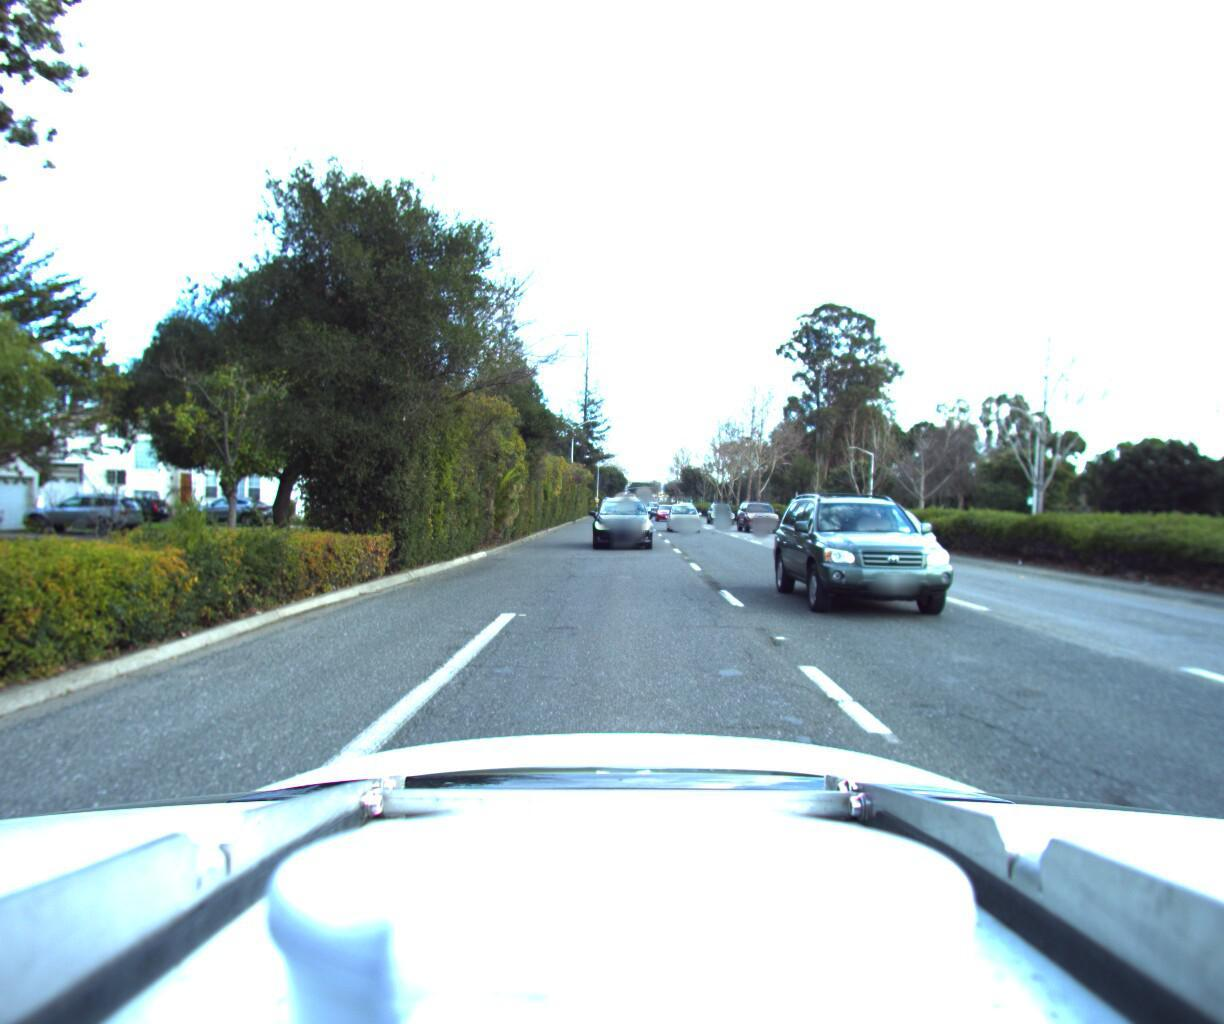car: (783, 478, 1016, 638), (856, 498, 981, 566), (15, 486, 147, 532), (591, 489, 655, 548), (74, 488, 173, 523), (179, 493, 276, 527), (737, 488, 789, 528), (662, 493, 703, 526), (707, 497, 739, 521), (652, 495, 678, 517)
